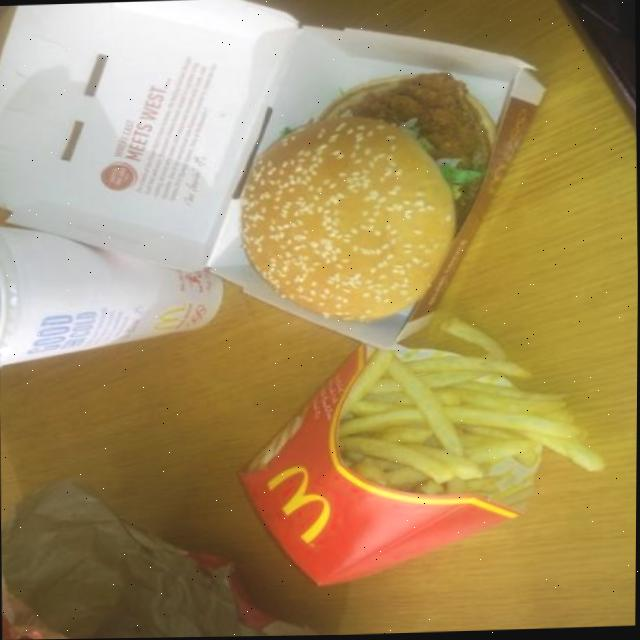汉堡快餐: (246, 154, 578, 388)
炸货点心: (260, 366, 638, 610)
